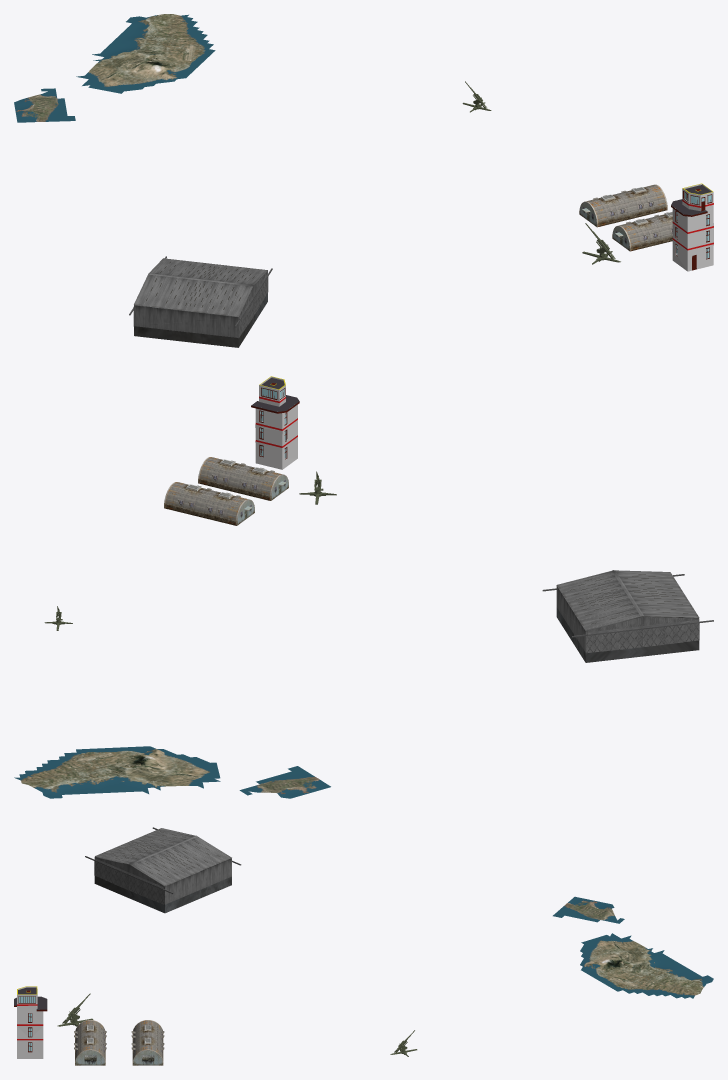
File: Midway.glb
3 renders of one model, top to bottom at view 1: azimuth 30°, elevation 25°; view 2: azimuth 150°, elevation 25°; view 3: azimuth 270°, elevation 25°, orthographic. The views are drawn at different scales.
Parts seen in each view (by area): view 1: Object_2, Object_3, German.Control.Tower.1.700, Cylinder001_Barrack Texture Map_0.002, Cylinder001_Barrack Texture Map_0.001; view 2: Object_2, Object_3, German.Control.Tower.1.700, Cylinder001_Barrack Texture Map_0.001, Cylinder001_Barrack Texture Map_0.002; view 3: Object_2, Object_3, German.Control.Tower.1.700, Cylinder001_Barrack Texture Map_0.002, Cylinder001_Barrack Texture Map_0.001.
Boxes of the visible parts, x1,y1,x2,y2 form: Object_2: [129, 256, 272, 347]; Object_3: [14, 14, 215, 122]; German.Control.Tower.1.700: [671, 183, 713, 271]; Cylinder001_Barrack Texture Map_0.002: [579, 184, 667, 227]; Cylinder001_Barrack Texture Map_0.001: [612, 211, 672, 251]; Object_2: [542, 570, 713, 662]; Object_3: [14, 746, 330, 798]; German.Control.Tower.1.700: [251, 376, 299, 469]; Cylinder001_Barrack Texture Map_0.001: [198, 457, 288, 500]; Cylinder001_Barrack Texture Map_0.002: [164, 482, 254, 525]; Object_2: [85, 827, 241, 913]; Object_3: [553, 896, 713, 998]; German.Control.Tower.1.700: [14, 986, 47, 1058]; Cylinder001_Barrack Texture Map_0.002: [131, 1020, 164, 1065]; Cylinder001_Barrack Texture Map_0.001: [74, 1020, 106, 1065].
Size of the model in its own units: 203 by 30.66 by 267.
Materials: 14 (4 with a texture image).
